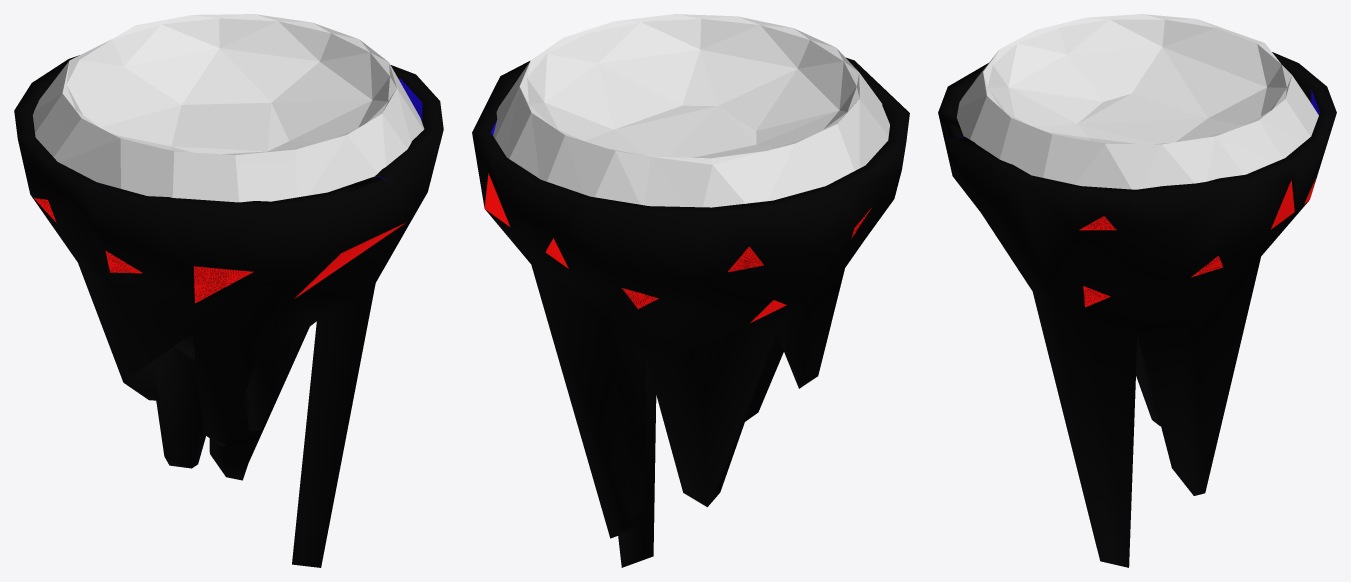
Rendered from socle2_vColor.fbx.
3 renders of one model, left to right at view 1: azimuth 30°, elevation 25°; view 2: azimuth 150°, elevation 25°; view 3: azimuth 270°, elevation 25°, orthographic. The views are drawn at different scales.
Parts seen in each view (by area): view 1: GeoSphere019, socle_lum001, Cylinder003; view 2: GeoSphere019, socle_lum001, Cylinder003; view 3: GeoSphere019, socle_lum001, Cylinder003.
Part boxes in pixels (bbox=[...]): GeoSphere019: bbox=[14, 55, 443, 567]; socle_lum001: bbox=[66, 18, 389, 154]; Cylinder003: bbox=[32, 14, 424, 202]; GeoSphere019: bbox=[472, 57, 909, 567]; socle_lum001: bbox=[527, 18, 856, 158]; Cylinder003: bbox=[493, 14, 889, 207]; GeoSphere019: bbox=[938, 52, 1336, 567]; socle_lum001: bbox=[987, 19, 1286, 144]; Cylinder003: bbox=[956, 14, 1318, 189].
Bounding box in the file's own units: 13.05 × 16.45 × 13.05.
